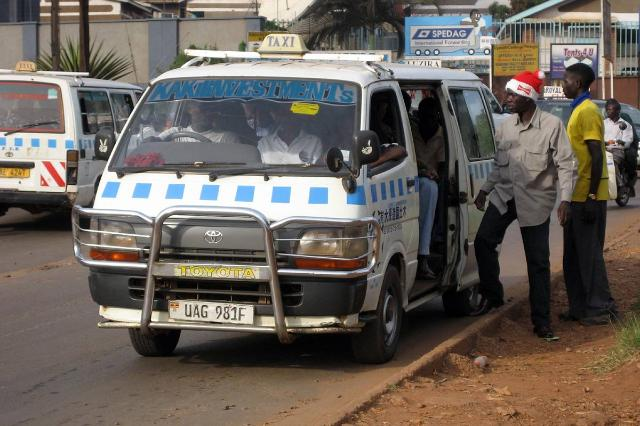van: (75, 34, 485, 357), (0, 62, 74, 226)
